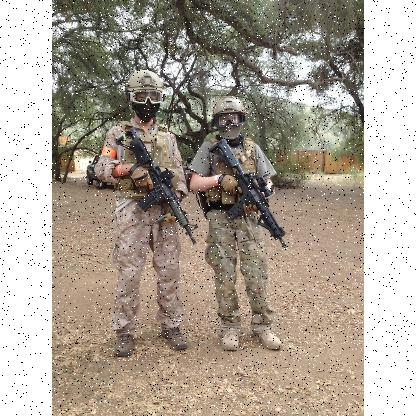gun: (113, 125, 197, 243), (208, 136, 288, 250)
